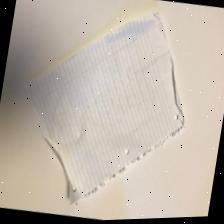paper: (5, 0, 209, 224)
